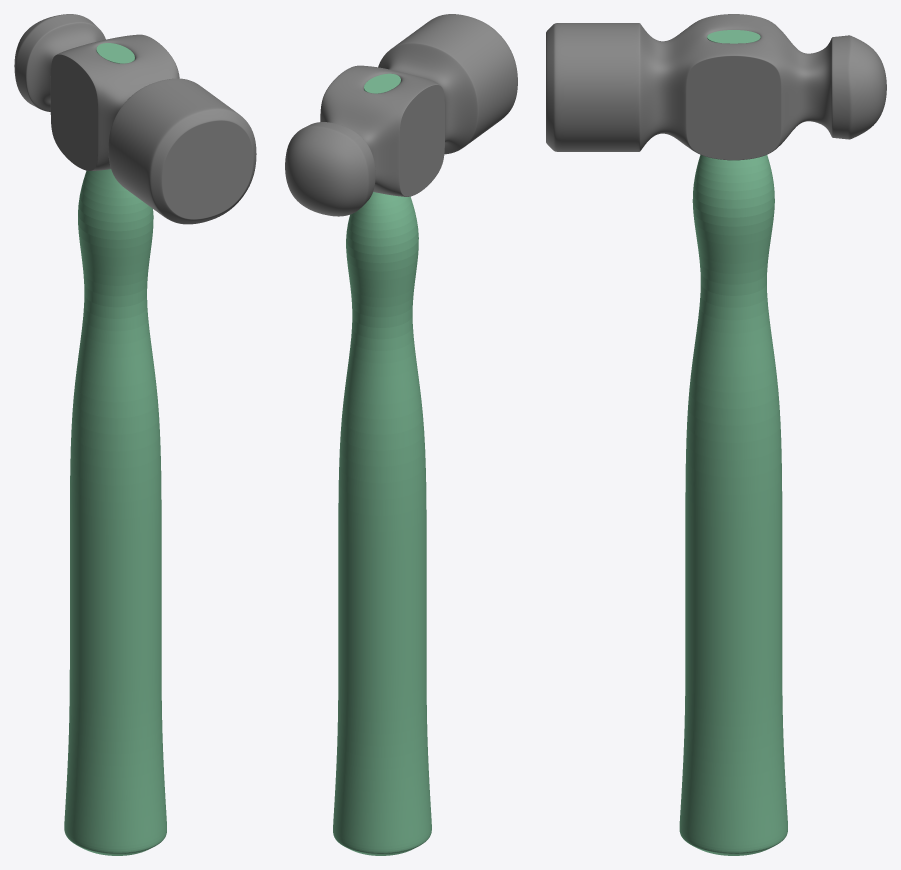
Rendered from hammer.fbx.
3 views of the same model, side by side, from view 1: azimuth 30°, elevation 25°; view 2: azimuth 150°, elevation 25°; view 3: azimuth 270°, elevation 25° (orthographic). The views are drawn at different scales.
Visible parts, largest first — view 1: Cylinder, Cube; view 2: Cylinder, Cube; view 3: Cylinder, Cube.
Part boxes in pixels (left/top/right/bottom): Cylinder: left=64, top=43, right=166, bottom=855; Cube: left=14, top=14, right=256, bottom=224; Cylinder: left=333, top=73, right=431, bottom=855; Cube: left=285, top=14, right=517, bottom=216; Cylinder: left=679, top=30, right=787, bottom=855; Cube: left=546, top=14, right=886, bottom=160.
Bounding box in the file's own units: 260 × 1831 × 700.
